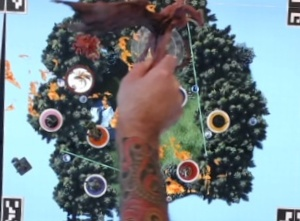orange: (83, 122, 110, 149)
pink: (37, 106, 63, 132)
red: (175, 157, 199, 183)
violet: (81, 170, 109, 198)
yellow: (207, 106, 233, 133)
